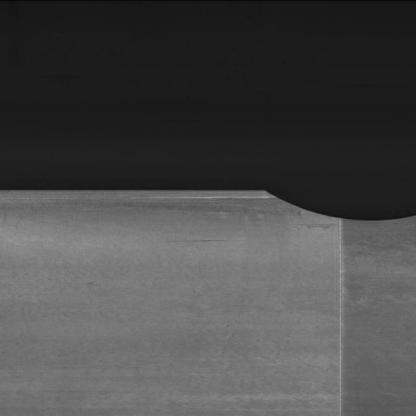crescent_gap: (245, 165, 415, 227)
welding_line: (324, 210, 355, 416)
